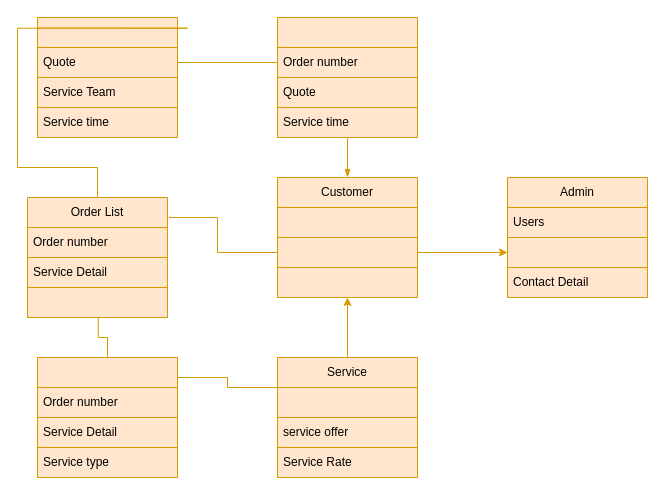
The diagram is 665 pixels wide and 495 high, and some of its shapes have lost their labels. The shapes that lost their labels are listed below. From the top down, each one's box as (x1, y1, x2, y2) in pixels, then its label:
(36, 16, 178, 138): Service Delivery
(276, 16, 418, 138): payment
(276, 206, 418, 238): Address
(276, 236, 418, 268): Number
(506, 236, 648, 268): Reports
(26, 286, 168, 318): Cost
(276, 266, 418, 298): Name
(36, 356, 178, 478): Service Request
(276, 386, 418, 418): service name
